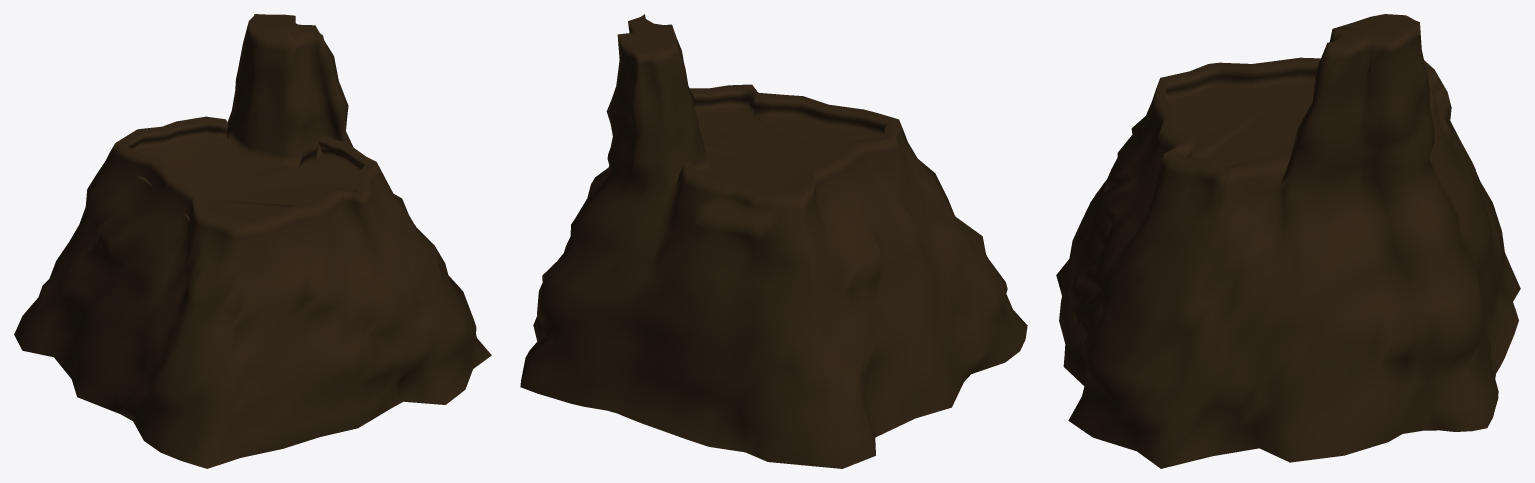
The model's file is SM_Mount.fbx.
The picture shows the model from 3 angles, left to right: view 1: azimuth 30°, elevation 25°; view 2: azimuth 150°, elevation 25°; view 3: azimuth 270°, elevation 25°; orthographic projection. The views are drawn at different scales.
Visible parts, largest first — view 1: Mountain; view 2: Mountain; view 3: Mountain.
Boxes of the visible parts, <box> form: Mountain: <box>14,14,491,468</box>; Mountain: <box>520,14,1027,468</box>; Mountain: <box>1056,14,1520,468</box>.
Bounding box in the file's own units: 15035 × 11998 × 13637.
